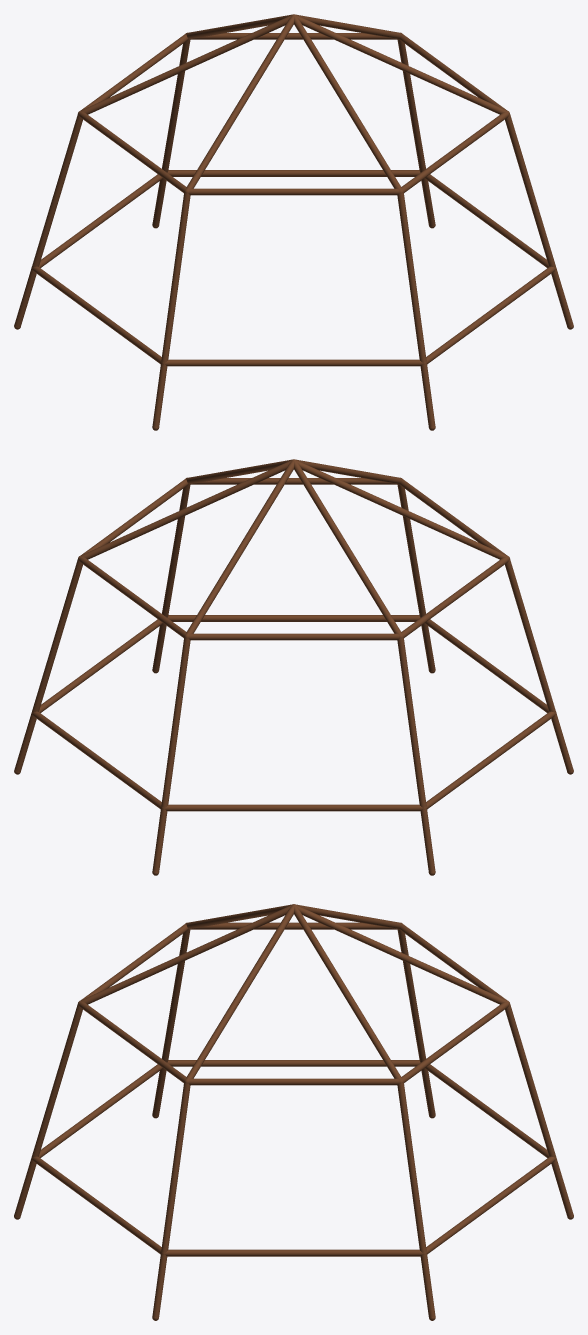
The model's file is ReefFrame_Rebar.obj.
The picture shows the model from 3 angles, top to bottom: view 1: azimuth 30°, elevation 25°; view 2: azimuth 150°, elevation 25°; view 3: azimuth 270°, elevation 25°; orthographic projection.
Parts seen in each view (by area): view 1: Lower_Ring, Top_Ring, Leg_2, Leg_3, Top_Spoke_1, Top_Spoke_4, Leg_1, Leg_4, Top_Spoke_2, Top_Spoke_3, Leg_5, Leg_6 (+2 smaller); view 2: Lower_Ring, Top_Ring, Leg_5, Leg_4, Top_Spoke_3, Top_Spoke_6, Leg_6, Leg_3, Top_Spoke_4, Top_Spoke_5, Leg_2, Leg_1 (+2 smaller); view 3: Lower_Ring, Top_Ring, Leg_1, Leg_6, Top_Spoke_2, Top_Spoke_5, Leg_2, Leg_5, Top_Spoke_1, Top_Spoke_6, Leg_3, Leg_4 (+2 smaller).
Boxes of the visible parts, x1,y1,x2,y2 form: Lower_Ring: (31,170,556,366); Top_Ring: (78,32,509,195); Leg_2: (397,192,435,430); Leg_3: (152,192,190,430); Top_Spoke_1: (292,14,506,114); Top_Spoke_4: (81,15,291,114); Leg_1: (505,114,573,329); Leg_4: (14,113,82,329); Top_Spoke_2: (294,16,401,189); Top_Spoke_3: (186,16,293,189); Leg_5: (152,39,190,228); Leg_6: (397,39,435,228); Lower_Ring: (31,615,556,811); Top_Ring: (78,477,509,640); Leg_5: (152,637,190,875); Leg_4: (397,637,435,875); Top_Spoke_3: (296,460,506,559); Top_Spoke_6: (81,460,291,559); Leg_6: (14,559,82,774); Leg_3: (505,558,573,774); Top_Spoke_4: (294,461,401,634); Top_Spoke_5: (186,461,293,634); Leg_2: (397,484,435,673); Leg_1: (152,484,190,673); Lower_Ring: (31,1060,556,1256); Top_Ring: (78,922,509,1085); Leg_1: (152,1082,190,1320); Leg_6: (397,1082,435,1320); Top_Spoke_2: (80,905,291,1004); Top_Spoke_5: (296,905,507,1004); Leg_2: (14,1004,82,1219); Leg_5: (505,1004,573,1219); Top_Spoke_1: (186,904,295,1079); Top_Spoke_6: (294,906,401,1079); Leg_3: (152,929,190,1118); Leg_4: (397,929,435,1118).
Size of the model in its own units: 1.14 by 0.8168 by 1.32.
